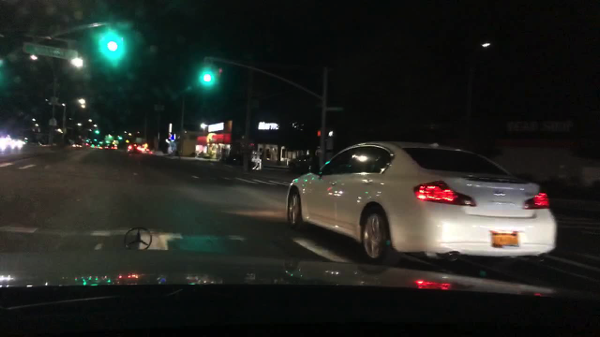car: (284, 140, 557, 271), (287, 154, 317, 173), (0, 136, 12, 152), (10, 138, 24, 151), (126, 143, 141, 154), (141, 147, 154, 155), (71, 142, 83, 148), (110, 145, 118, 150), (104, 146, 109, 150), (98, 146, 103, 150)
traffic light: (106, 31, 119, 59), (201, 65, 213, 88), (327, 130, 334, 138), (316, 130, 321, 136), (95, 127, 99, 134)
traffic sign: (23, 42, 79, 60), (48, 117, 58, 127), (327, 106, 343, 112), (154, 103, 164, 111)
